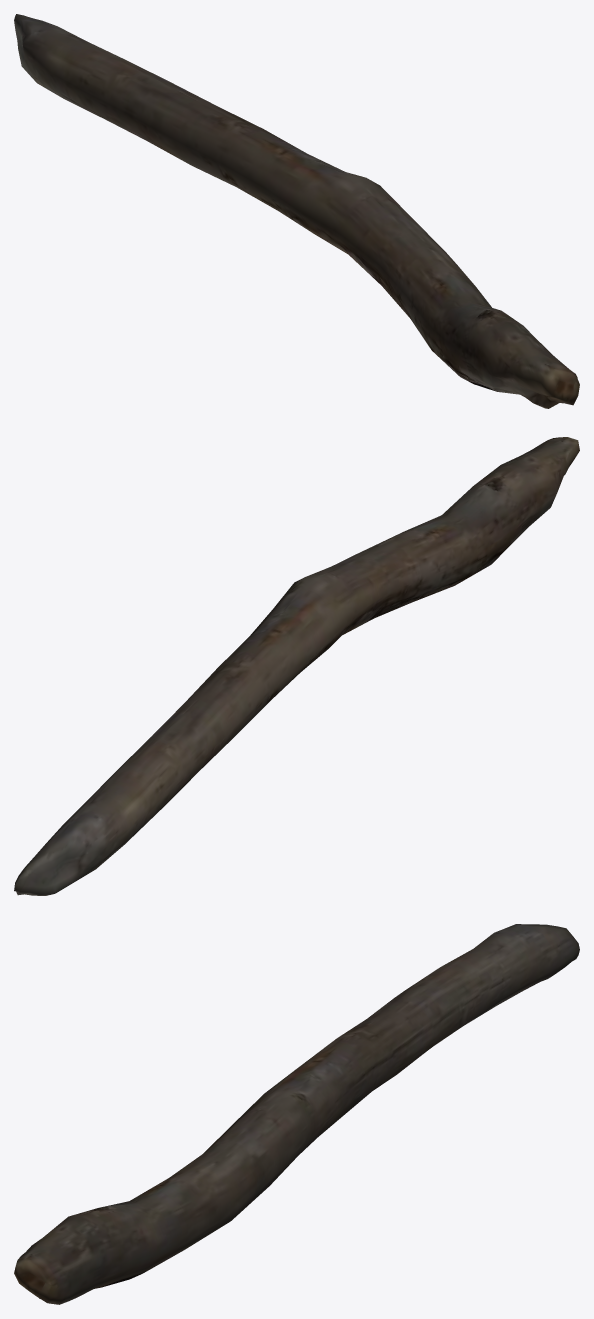
3 views of the same model, one above another, from view 1: azimuth 30°, elevation 25°; view 2: azimuth 150°, elevation 25°; view 3: azimuth 330°, elevation 25° (orthographic). The views are drawn at different scales.
Parts seen in each view (by area): view 1: SM_MahoganyWood_01_LOD0; view 2: SM_MahoganyWood_01_LOD0; view 3: SM_MahoganyWood_01_LOD0.
Boxes of the visible parts, <box> form: SM_MahoganyWood_01_LOD0: <box>14,14,579,408</box>; SM_MahoganyWood_01_LOD0: <box>14,437,579,895</box>; SM_MahoganyWood_01_LOD0: <box>14,924,579,1304</box>.
Bounding box in the file's own units: 0.1643 × 0.18 × 1.75.
1 material, 1 textured.
